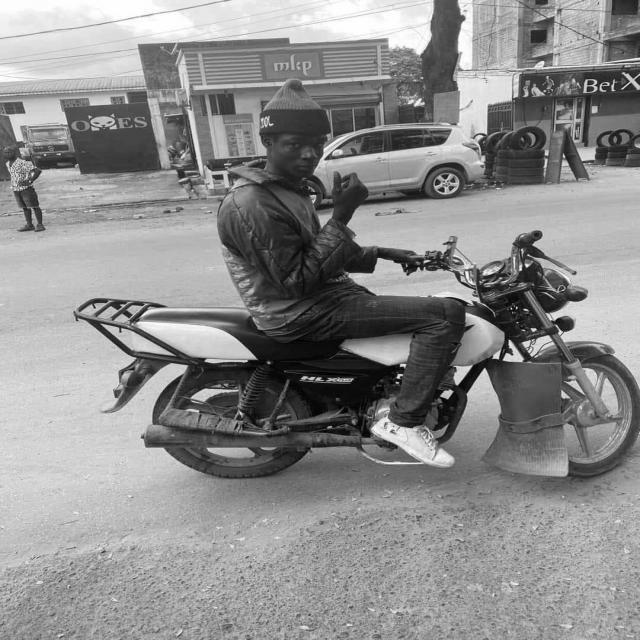Motorbike: (75, 82, 640, 481)
